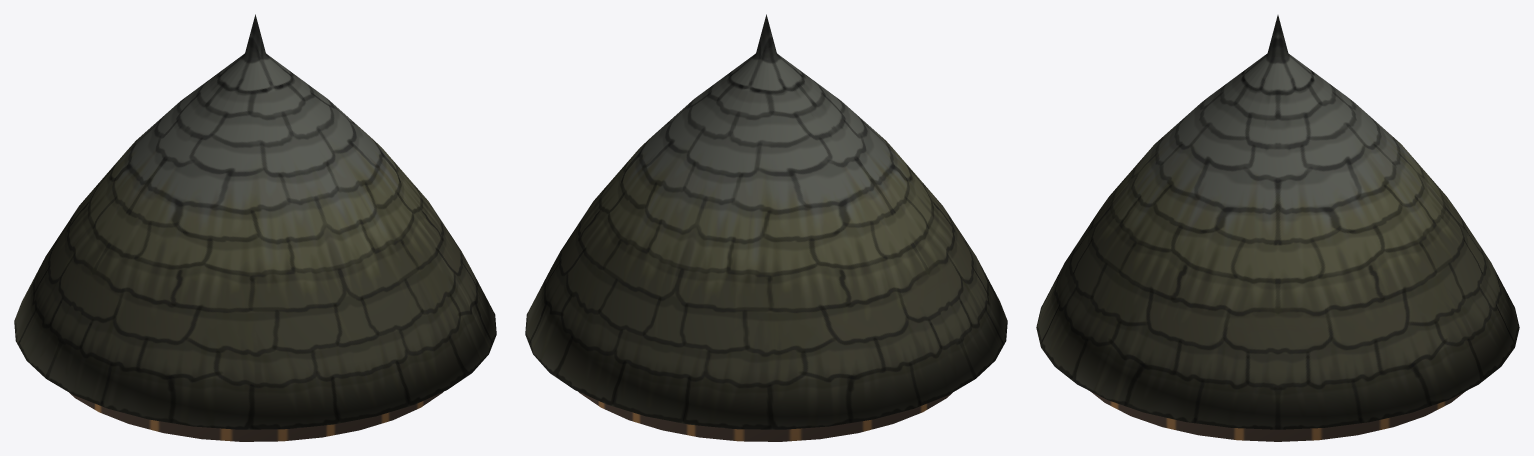
Rendered from mbaru niang.fbx.
3 renders of one model, left to right at view 1: azimuth 30°, elevation 25°; view 2: azimuth 150°, elevation 25°; view 3: azimuth 270°, elevation 25°, orthographic.
Parts seen in each view (by area): view 1: Cone; view 2: Cone; view 3: Cone.
Part boxes in pixels (x1,y1,x2,y2): Cone: (14,14,496,441); Cone: (525,14,1007,441); Cone: (1036,15,1519,441).
Size of the model in its own units: 3394 by 2634 by 3394.
